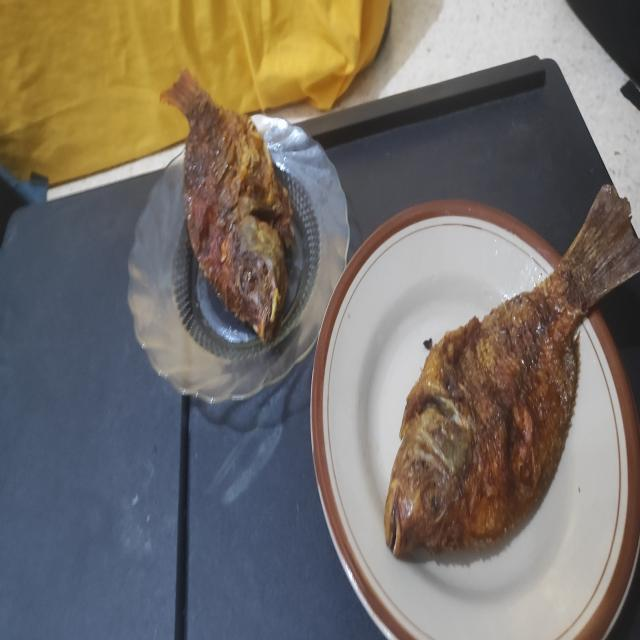ikan_mujair: (384, 185, 640, 558), (160, 70, 294, 340)
